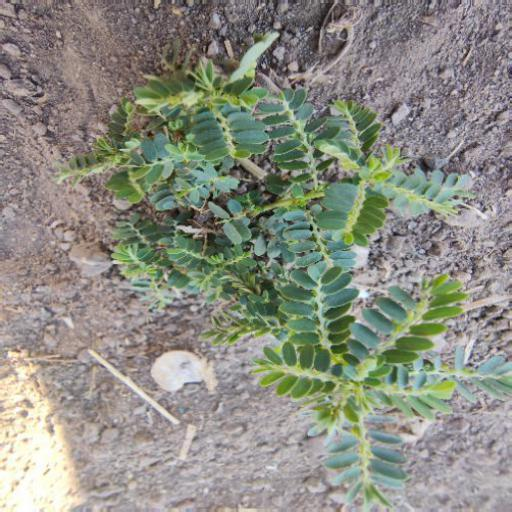weed: (79, 60, 469, 505)
